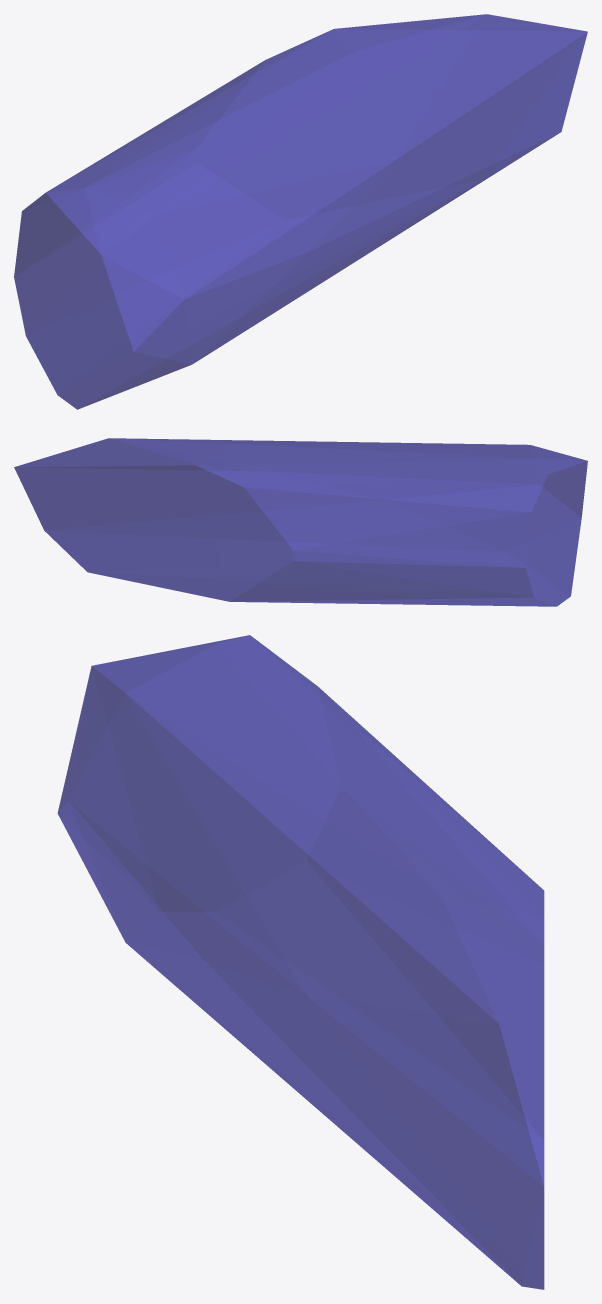
The picture shows the model from 3 angles, top to bottom: view 1: azimuth 30°, elevation 25°; view 2: azimuth 150°, elevation 25°; view 3: azimuth 270°, elevation 25°; orthographic projection. The views are drawn at different scales.
Parts seen in each view (by area): view 1: Shape_IndexedFaceSet.013_Shape_IndexedFaceSet.4855; view 2: Shape_IndexedFaceSet.013_Shape_IndexedFaceSet.4855; view 3: Shape_IndexedFaceSet.013_Shape_IndexedFaceSet.4855.
Boxes of the visible parts, box(x1,y1,x2,y2) form: Shape_IndexedFaceSet.013_Shape_IndexedFaceSet.4855: box(14, 14, 587, 409); Shape_IndexedFaceSet.013_Shape_IndexedFaceSet.4855: box(14, 438, 587, 606); Shape_IndexedFaceSet.013_Shape_IndexedFaceSet.4855: box(57, 635, 544, 1289).
Bounding box in the file's own units: 0.1364 × 0.0406 × 0.0624.
